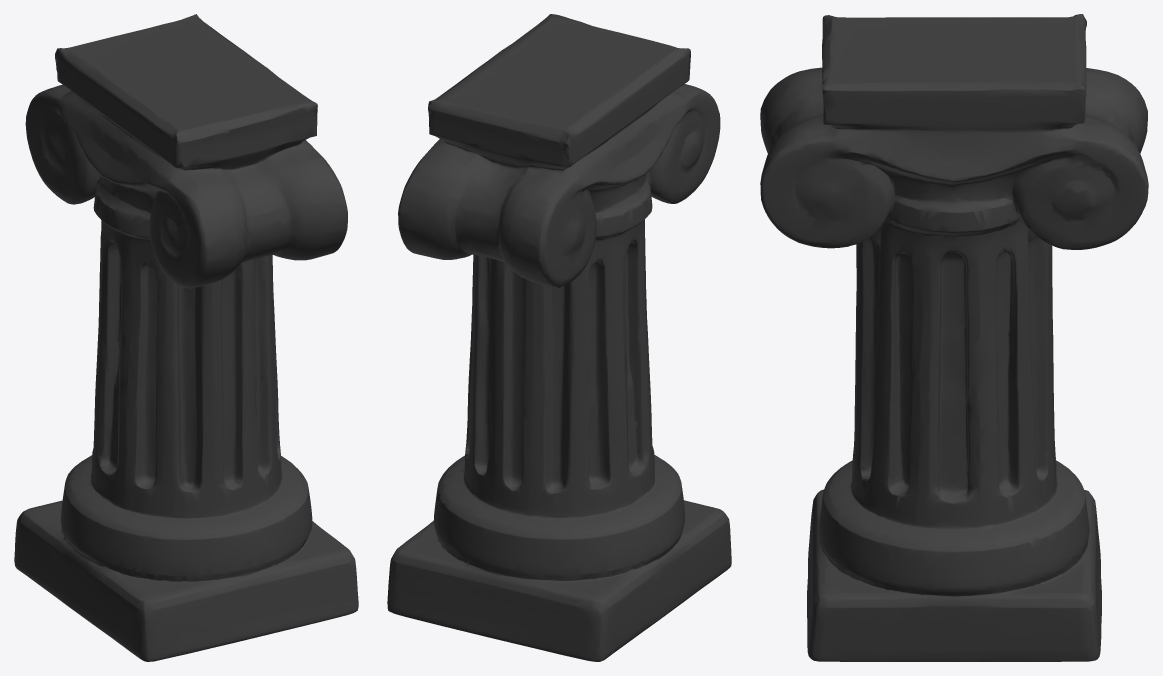
The model's file is pr_columna_dorada.glb.
3 renders of one model, left to right at view 1: azimuth 30°, elevation 25°; view 2: azimuth 150°, elevation 25°; view 3: azimuth 270°, elevation 25°, orthographic. The views are drawn at different scales.
Visible parts, largest first — view 1: geometry_0; view 2: geometry_0; view 3: geometry_0.
Boxes of the visible parts, x1,y1,x2,y2 form: geometry_0: (14,14,358,661); geometry_0: (387,14,731,661); geometry_0: (760,14,1148,661).
Size of the model in its own units: 0.4383 by 0.9875 by 0.6253.
Materials: 1 (1 with a texture image).
